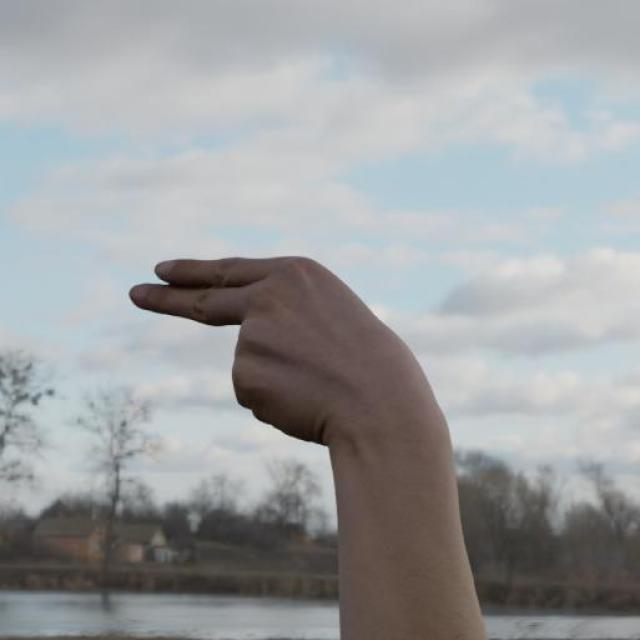H: (127, 255, 456, 450)
